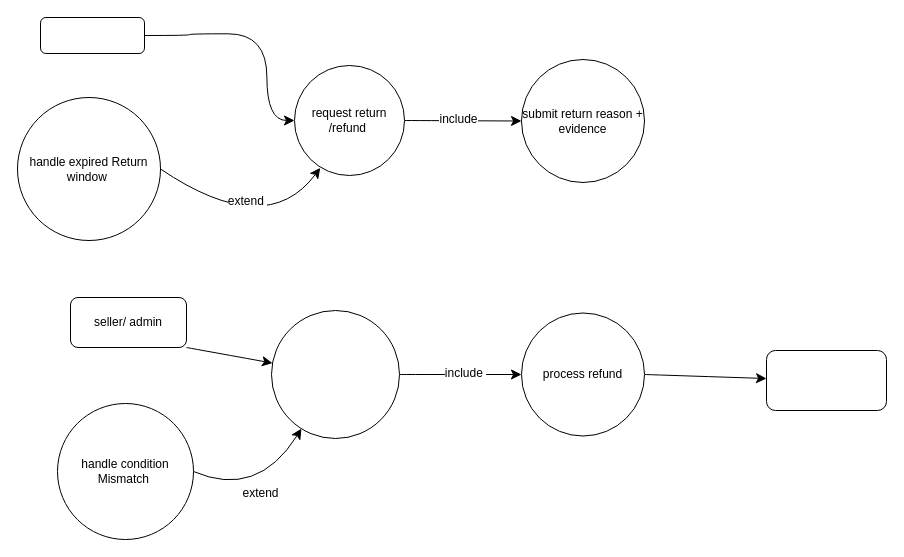
Some shapes in this 904 by 557 pixel diagram are drawn without their labels. Each missing label, with the box of its shape:
buyer: (40, 16, 144, 54)
external payment gateaway: (766, 350, 886, 410)
review return request: (270, 310, 400, 438)
